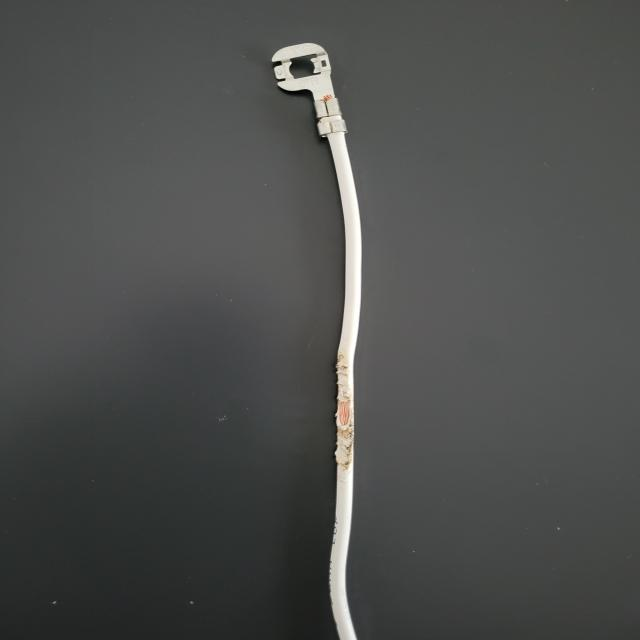defect: (292, 346, 429, 504)
